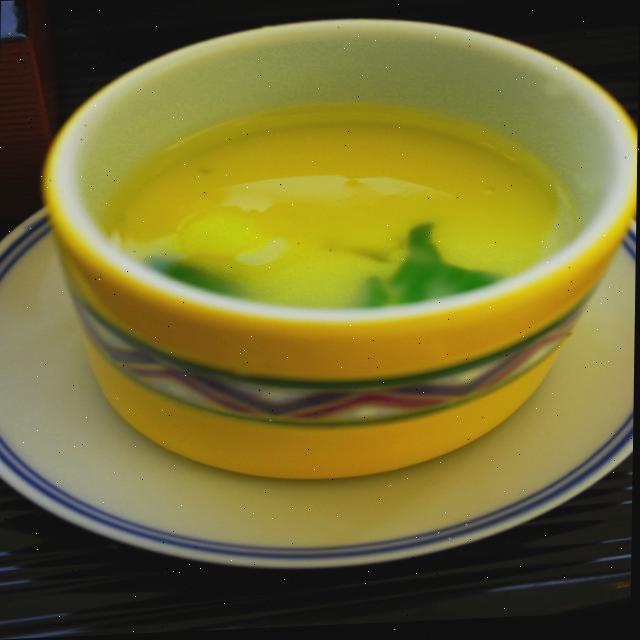鸡蛋料理: (0, 23, 639, 466)
